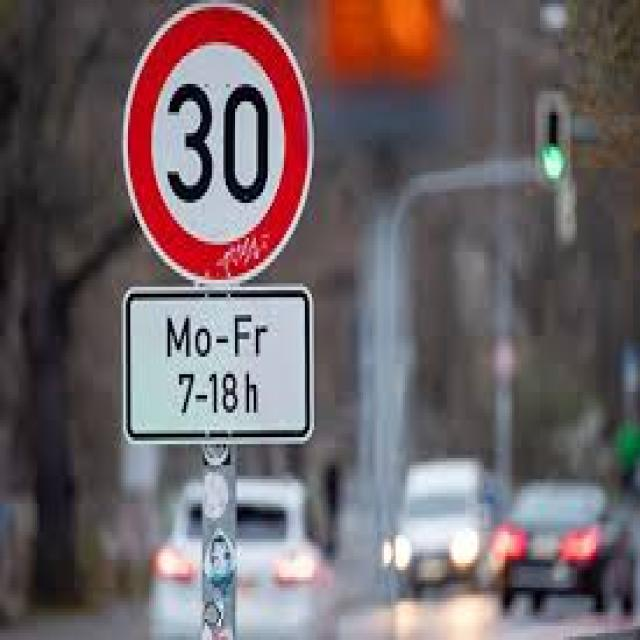Speed limit 30: (120, 1, 318, 288)
